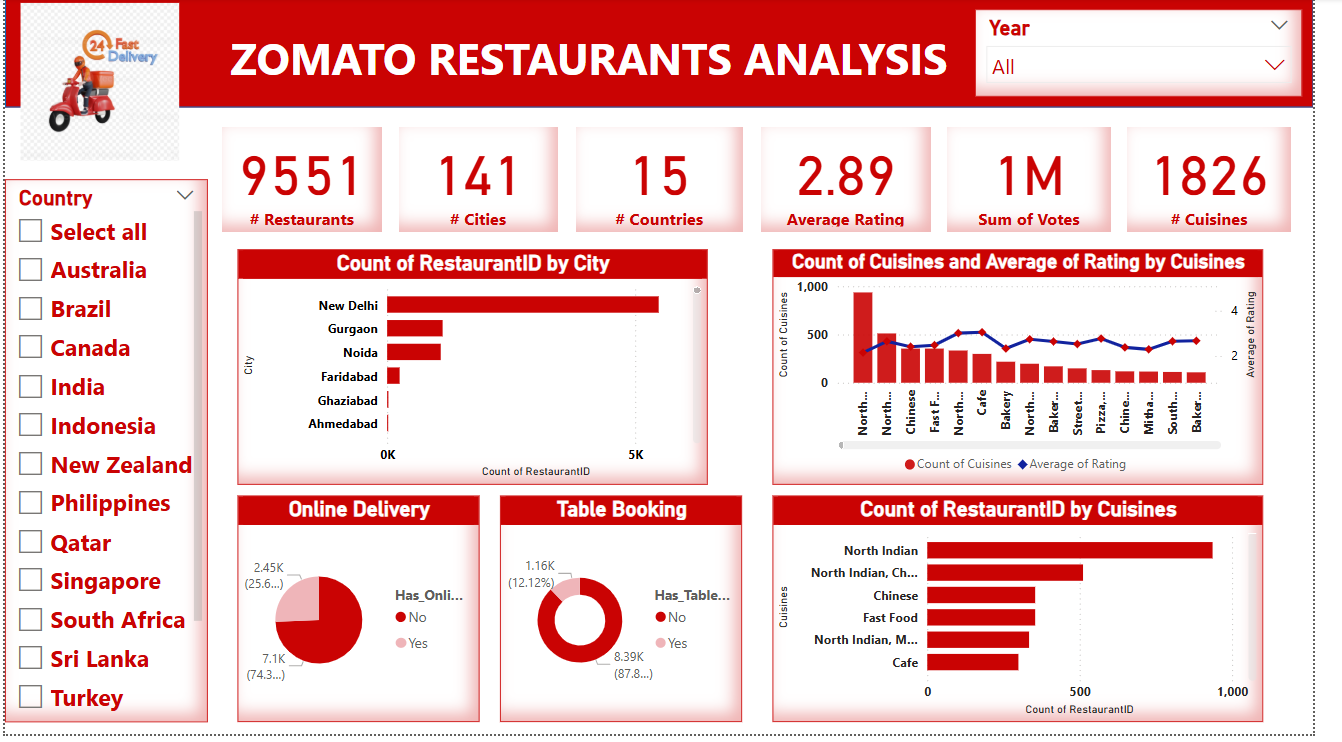

This screenshot's page, from the dashboard's own definition file:
{"tool":"powerbi","page":{"name":"Dashboard","canvas":[1280,720],"ordinal":0},"visuals":[{"type":"shape","box":[0,0,1280,107.1],"z":0},{"type":"image","box":[0,0,185.7,164.3],"z":1000},{"type":"textbox","box":[185.7,24.3,778.6,60],"z":2000},{"type":"card","fields":{"Values":["CountNonNull(Restaurants.RestaurantID)"]},"box":[212.9,125.7,155.7,102.9],"z":3000},{"type":"card","fields":{"Values":["Count(Restaurants.City)"]},"box":[385.7,125.7,155.7,102.9],"z":4000},{"type":"card","fields":{"Values":["Count(Restaurants.CountryCode)"]},"box":[558.6,125.7,162.9,102.9],"z":5000},{"type":"card","fields":{"Values":["Avg(Restaurants.Rating)"]},"box":[740,125.7,165.7,102.9],"z":6000},{"type":"card","fields":{"Values":["Sum(Restaurants.Votes)"]},"box":[921.4,125.7,160,102.9],"z":7000},{"type":"card","fields":{"Values":["Count(Restaurants.Cuisines)"]},"box":[1098.6,125.7,160,102.9],"z":8000},{"type":"slicer","fields":{"Values":["Countries.country name"]},"box":[0,177.1,198.6,531.4],"z":9000},{"type":"lineStackedColumnComboChart","fields":{"Category":["Restaurants.Cuisines"],"Y":["CountNonNull(Restaurants.Cuisines)"],"Y2":["Avg(Restaurants.Rating)"]},"box":[751.4,245.7,480,230],"z":10000},{"type":"clusteredBarChart","fields":{"Category":["Restaurants.City"],"Y":["CountNonNull(Restaurants.RestaurantID)"]},"box":[227.1,245.7,460,230],"z":11000},{"type":"clusteredBarChart","fields":{"Category":["Restaurants.Cuisines"],"Y":["CountNonNull(Restaurants.RestaurantID)"]},"box":[751.4,487.1,480,221.4],"z":12000},{"type":"pieChart","title":"Online Delivery","fields":{"Category":["Restaurants.Has_Online_delivery"],"Y":["CountNonNull(Restaurants.RestaurantID)"]},"box":[227.1,487.1,237.1,221.4],"z":13000},{"type":"donutChart","title":"Table Booking","fields":{"Category":["Restaurants.Has_Table_booking"],"Y":["CountNonNull(Restaurants.RestaurantID)"]},"box":[484.3,487.1,237.1,221.4],"z":14000},{"type":"slicer","fields":{"Values":["Restaurants.Datekey_Opening.Variation.Date Hierarchy.Year"]},"box":[948.6,11.4,320,85.7],"z":14001}]}

Visuals, with their boxes in screenshot pixels (x1, y1, x2, y2), scaled from the page's 1280x720 canvas onto the 1342x742 screenshot:
shape: detection(0, 0, 1341, 110)
image: detection(0, 0, 195, 169)
textbox: detection(195, 25, 1011, 87)
card - CountNonNull(Restaurants.RestaurantID): detection(223, 130, 386, 236)
card - Count(Restaurants.City): detection(404, 130, 568, 236)
card - Count(Restaurants.CountryCode): detection(586, 130, 756, 236)
card - Avg(Restaurants.Rating): detection(776, 130, 950, 236)
card - Sum(Restaurants.Votes): detection(966, 130, 1134, 236)
card - Count(Restaurants.Cuisines): detection(1152, 130, 1320, 236)
slicer - Countries.country name: detection(0, 183, 208, 730)
lineStackedColumnComboChart - Restaurants.Cuisines x CountNonNull(Restaurants.Cuisines): detection(788, 253, 1291, 490)
clusteredBarChart - Restaurants.City x CountNonNull(Restaurants.RestaurantID): detection(238, 253, 720, 490)
clusteredBarChart - Restaurants.Cuisines x CountNonNull(Restaurants.RestaurantID): detection(788, 502, 1291, 730)
"Online Delivery" pieChart: detection(238, 502, 487, 730)
"Table Booking" donutChart: detection(508, 502, 756, 730)
slicer - Restaurants.Datekey_Opening.Variation.Date Hierarchy.Year: detection(995, 12, 1330, 100)
